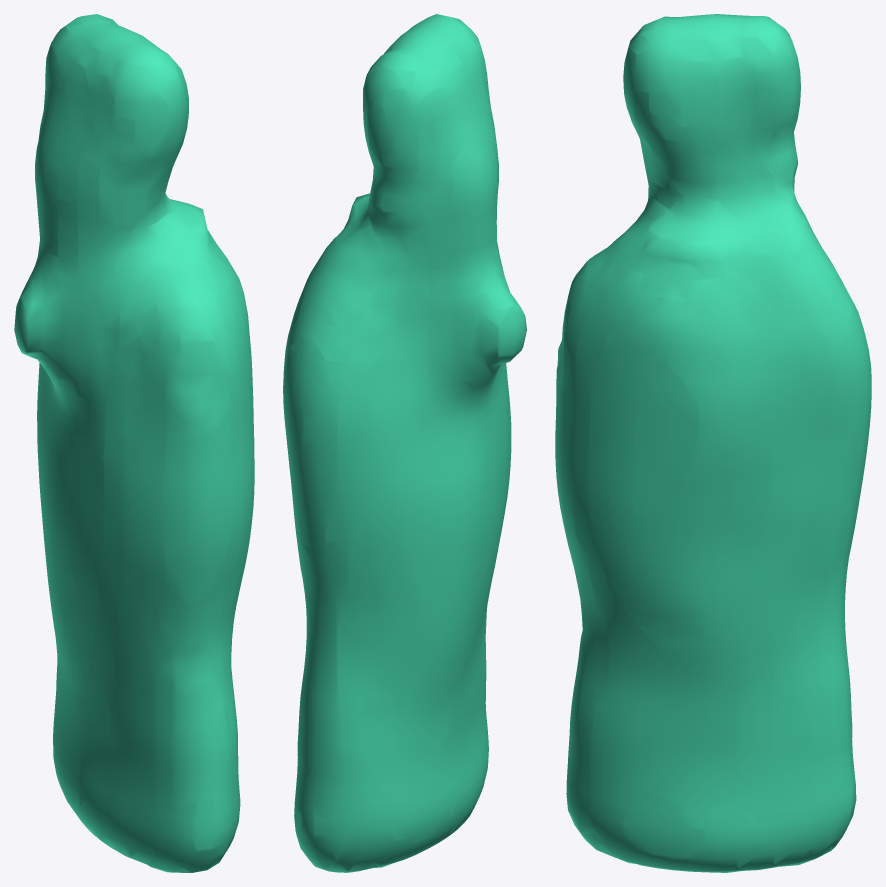
The picture shows the model from 3 angles, left to right: view 1: azimuth 30°, elevation 25°; view 2: azimuth 150°, elevation 25°; view 3: azimuth 270°, elevation 25°; orthographic projection.
Parts seen in each view (by area): view 1: Liquid_Domain; view 2: Liquid_Domain; view 3: Liquid_Domain.
Part boxes in pixels (box(x1,y1,x2,y2)): Liquid_Domain: box(14, 14, 254, 872); Liquid_Domain: box(283, 14, 526, 872); Liquid_Domain: box(555, 14, 871, 872).
Size of the model in its own units: 2.02 by 7.55 by 2.63.
